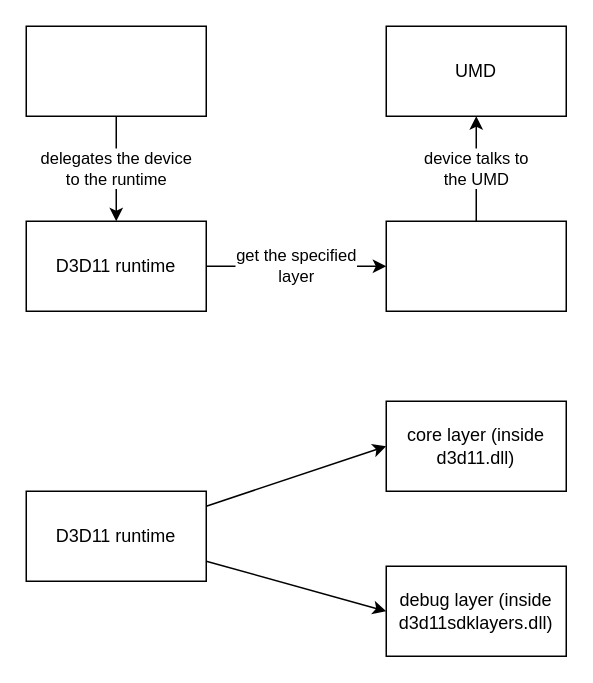
Image size: 593x683. Some labels were removed from this diagram. Here are the shapes that lost their labels. From the top down, the centre of each, then its label:
At point (115, 70): "DXGI".
At point (475, 265): "D3D11 layer".
